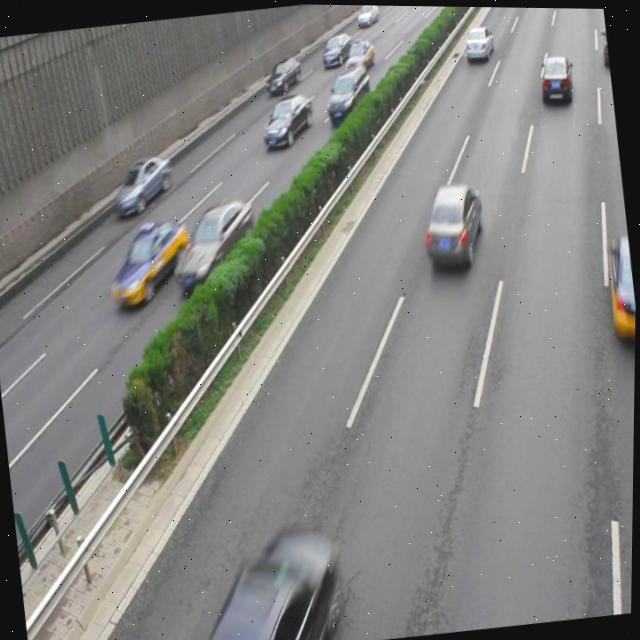car: (165, 192, 260, 289), (103, 215, 195, 308), (415, 176, 488, 271), (109, 151, 177, 217), (599, 229, 637, 346), (257, 90, 316, 150), (320, 60, 373, 124), (534, 51, 574, 106), (262, 53, 303, 96), (339, 35, 375, 75), (597, 23, 610, 68)
